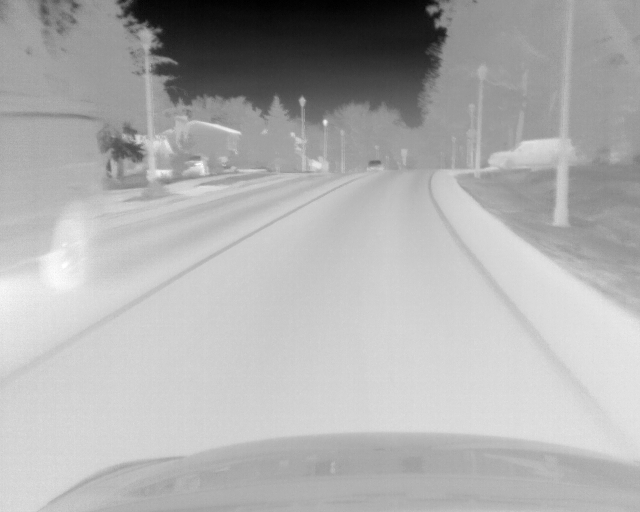car: (1, 91, 108, 289), (489, 134, 574, 171), (365, 159, 383, 172)
